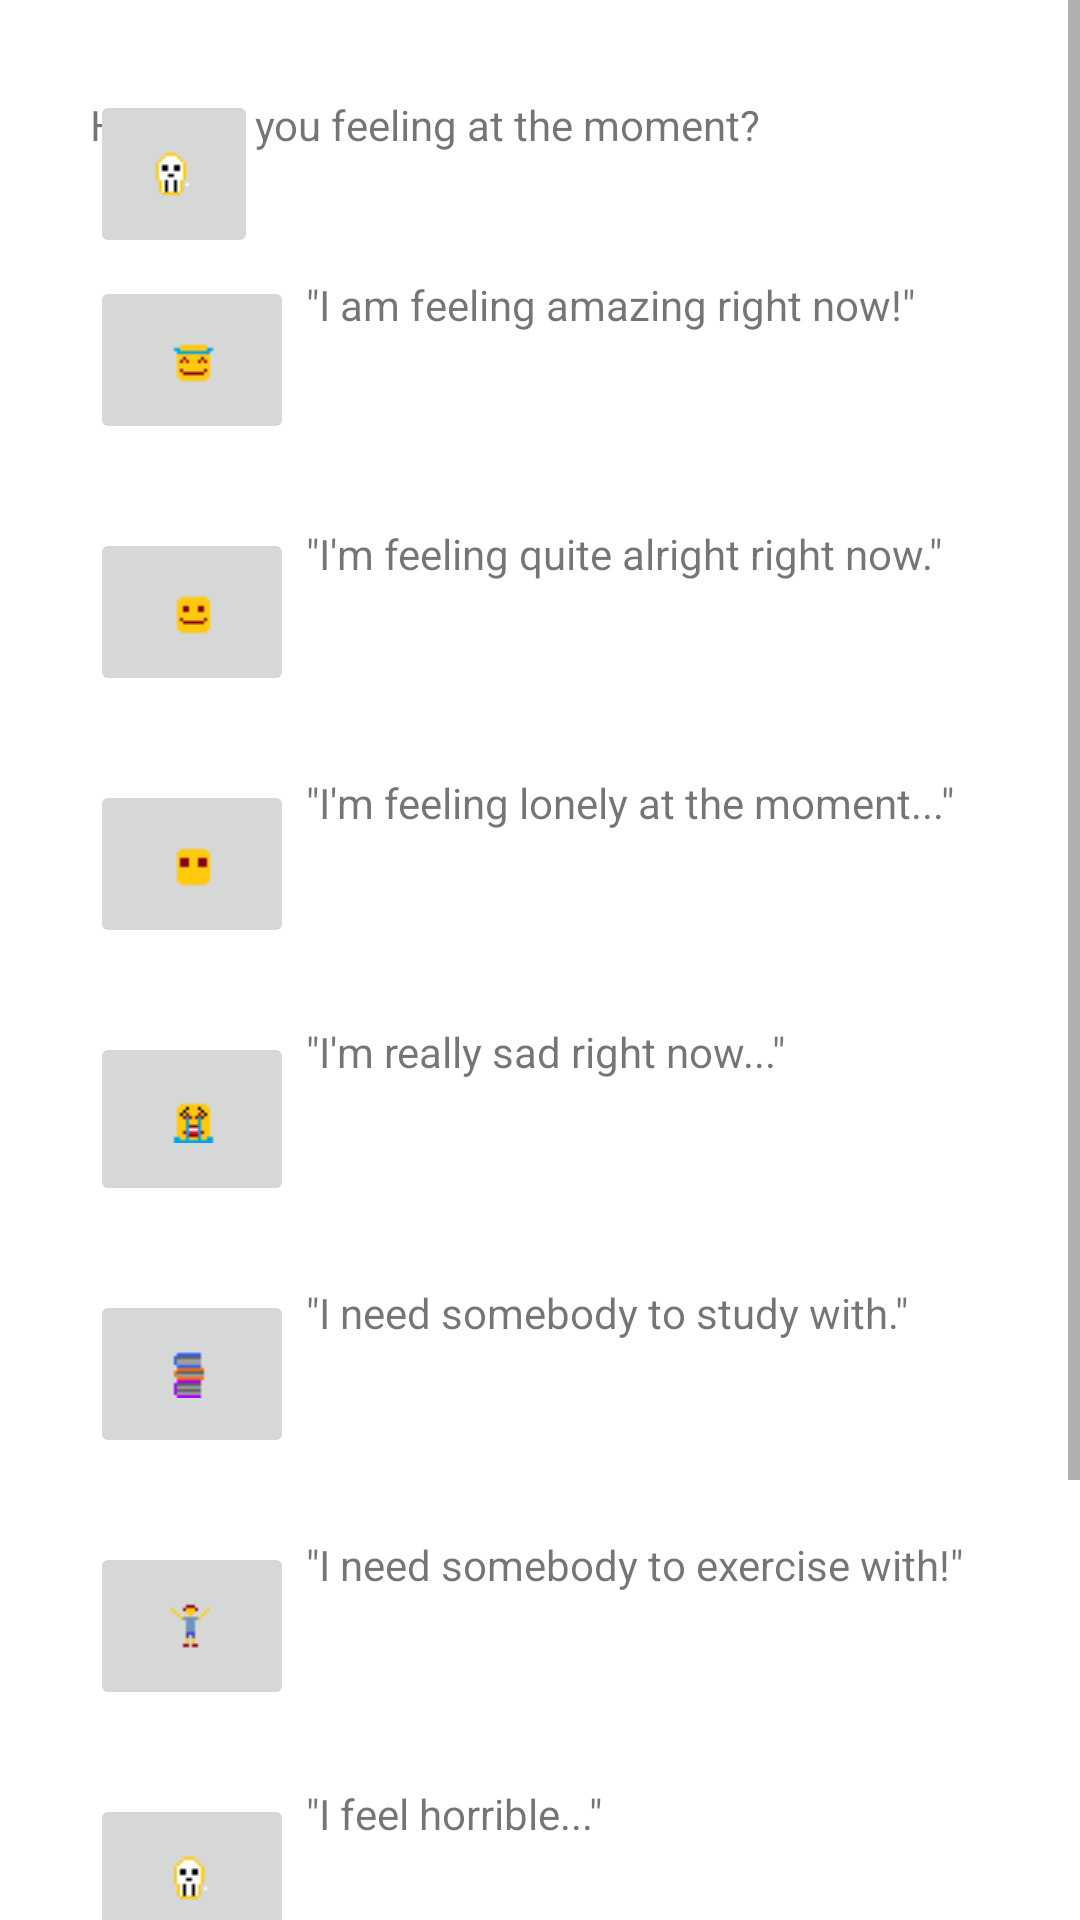

Where to tap for icons on this 1080*1920 app screen, as (x,y):
book: (192,1374)
fitness buddy: (192,1626)
very happy: (192,360)
